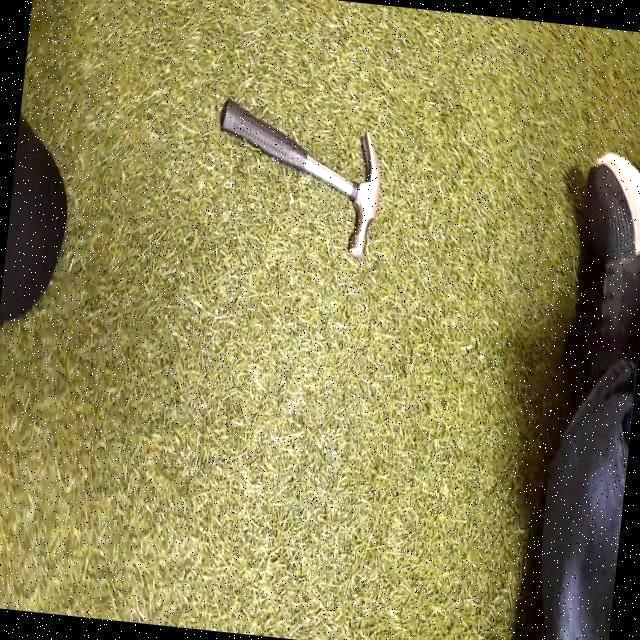hammer: (220, 97, 378, 263)
